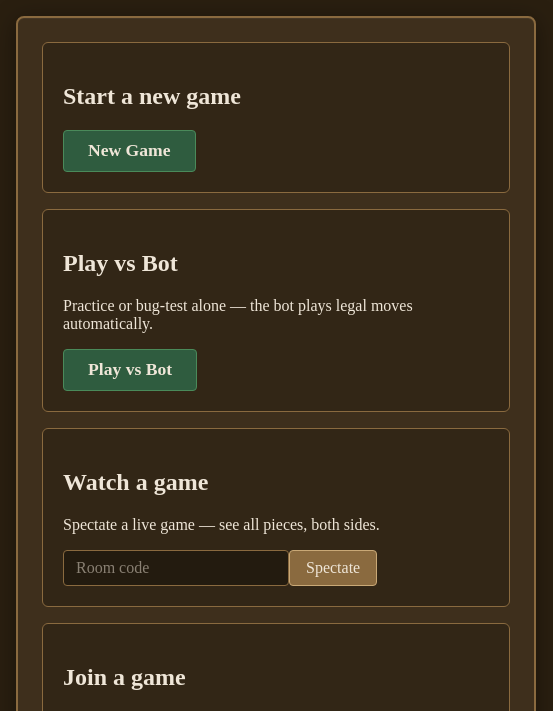
Scenario: HomePage play vs bot › does not abandon a room when create-game itself fails
This screenshot has width=553, height=711.
What coordinates should you click on to do the following:
click the button "Play vs Bot"
I would click on:
 (130, 370)
Its box is [63, 349, 197, 391].
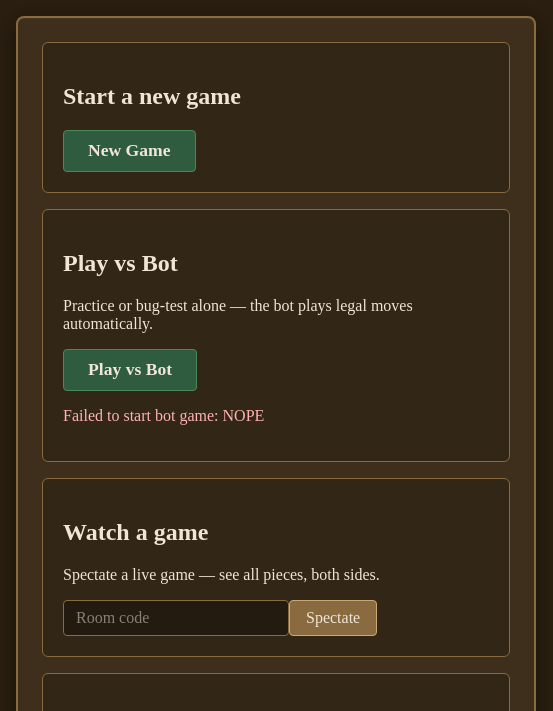
expect the text "Failed to start bot game: NOPE" is shown: met, box [63, 407, 264, 424]
